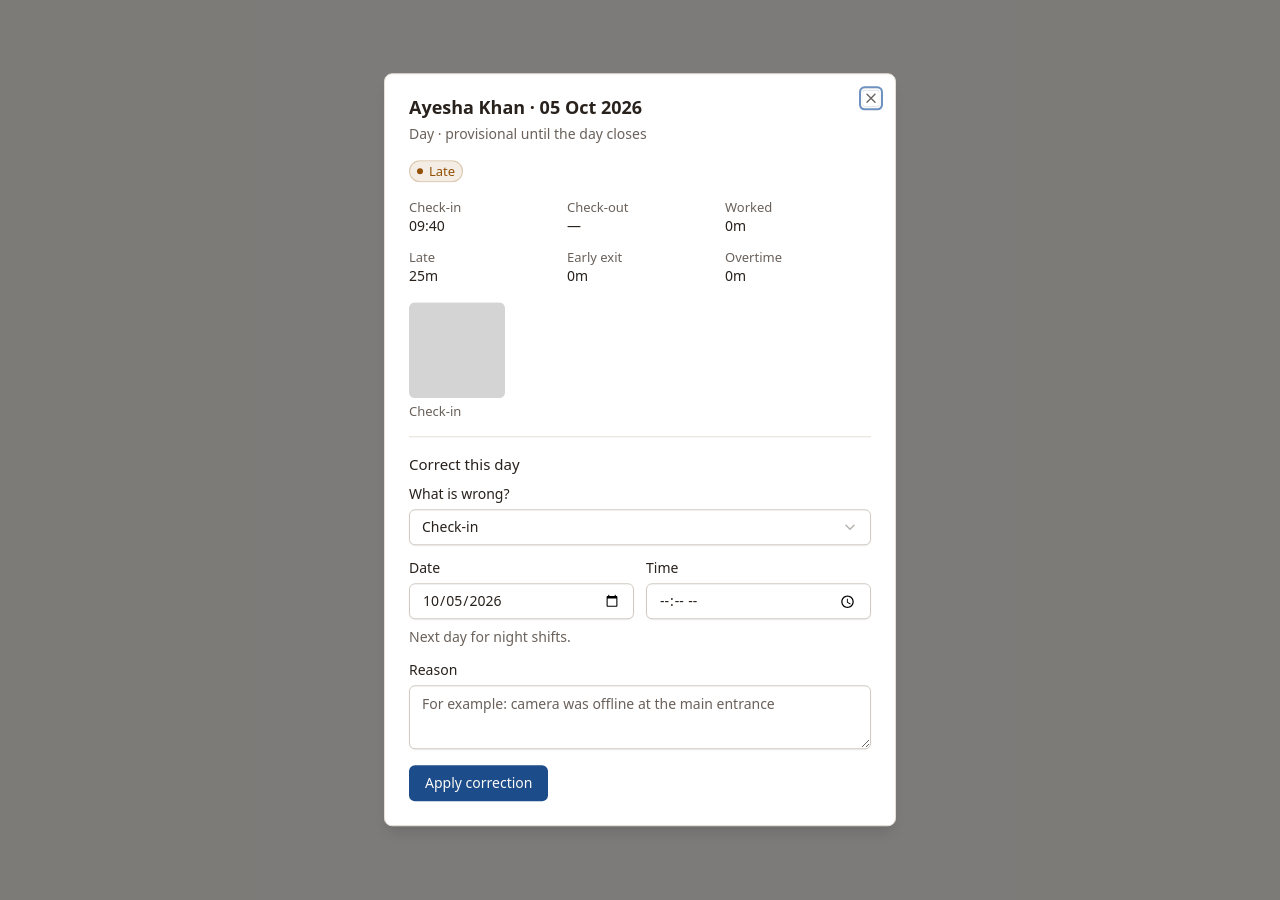
Test: correcting a day (FR-25, FR-26, ADR-0004) › shows field errors from the API under the time
Type "08:00" into the time field labelled "Time". click: (758, 602)
box: x1=646 y1=584 x2=871 y2=620
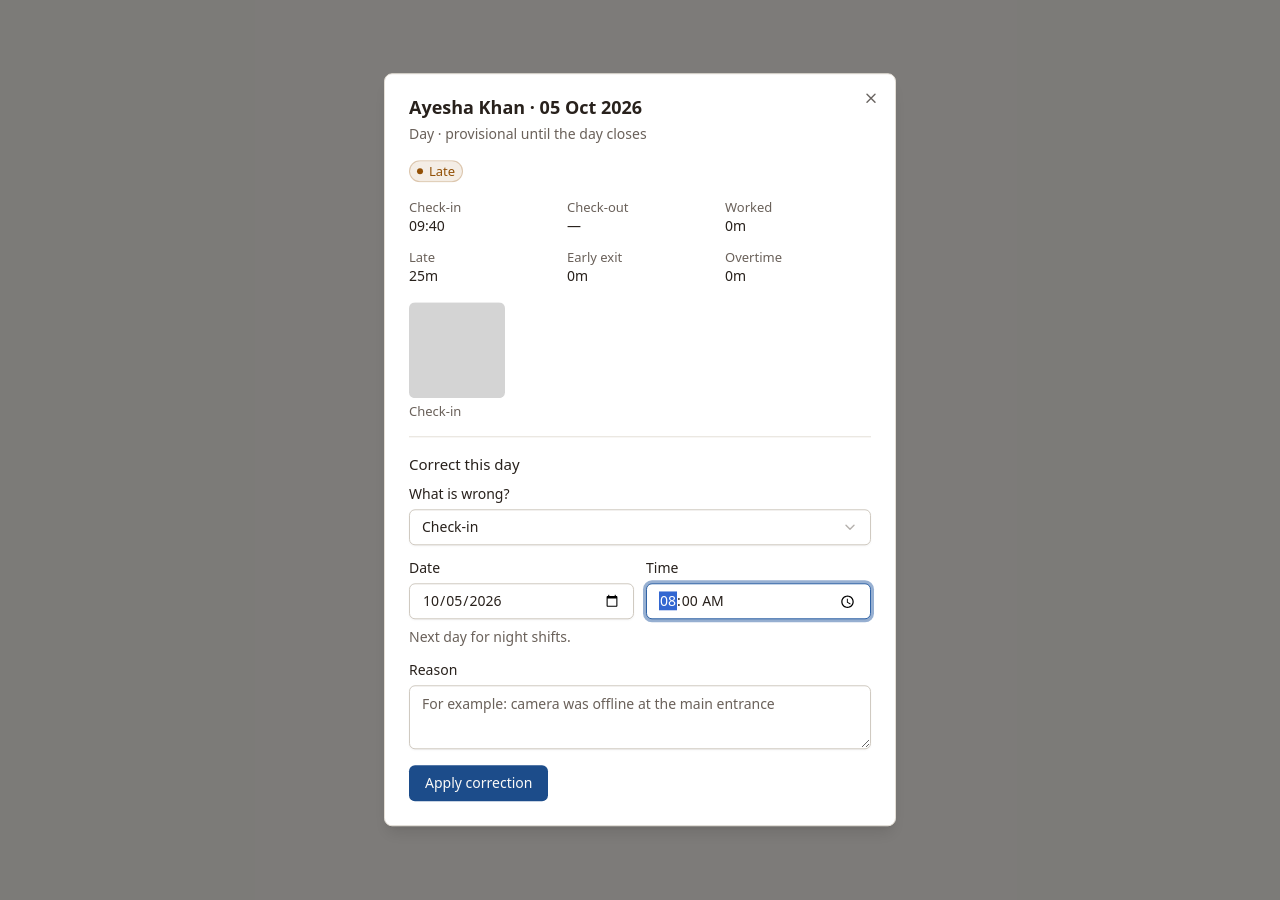
Type "Came early really" into the text box labelled "Reason". click: (640, 718)
box: x1=409 y1=686 x2=871 y2=750
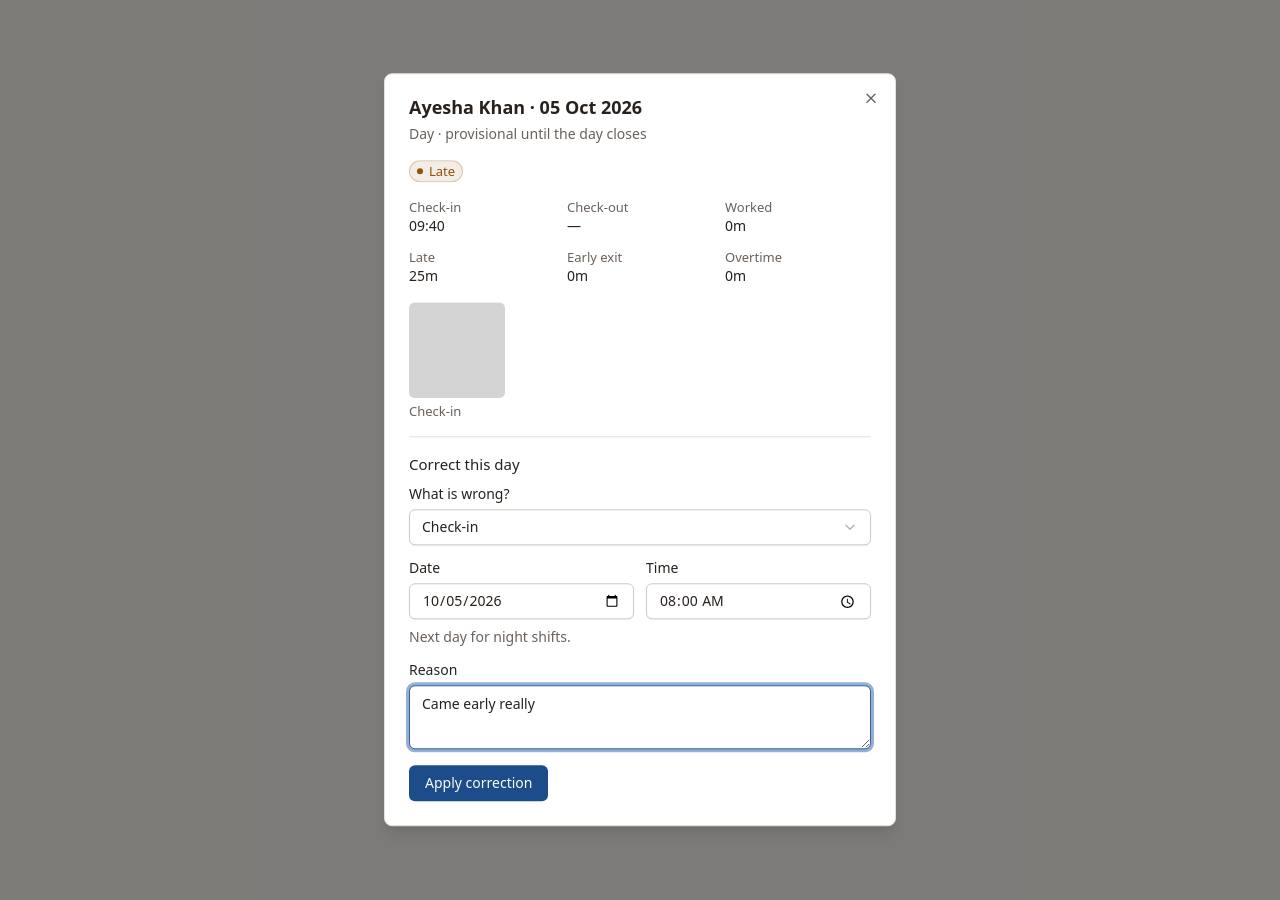
Click the button "Apply correction". click: (479, 784)
box: x1=409 y1=766 x2=548 y2=802
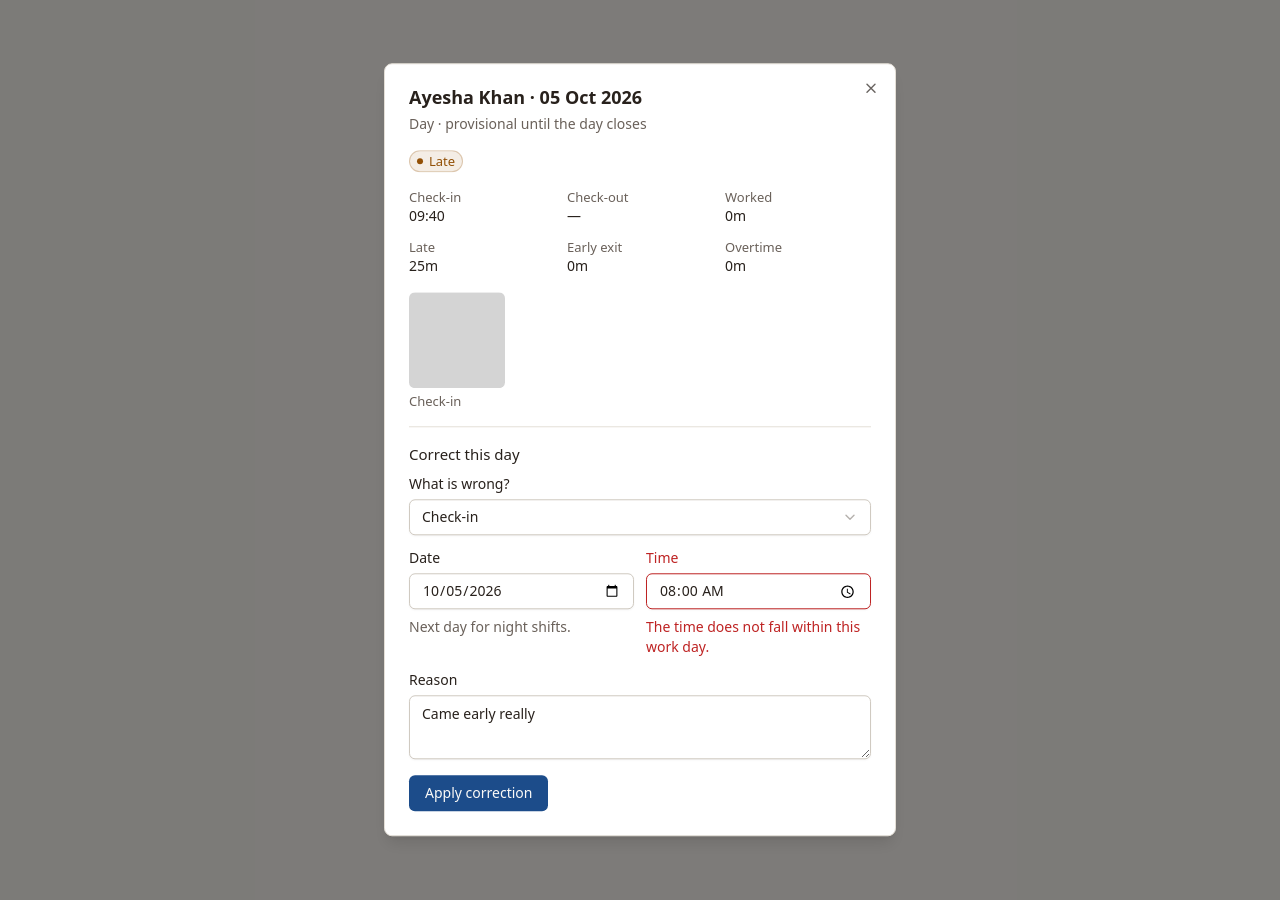
Expected: the text "The time does not fall within this work day." is shown, x1=646 y1=618 x2=871 y2=658
